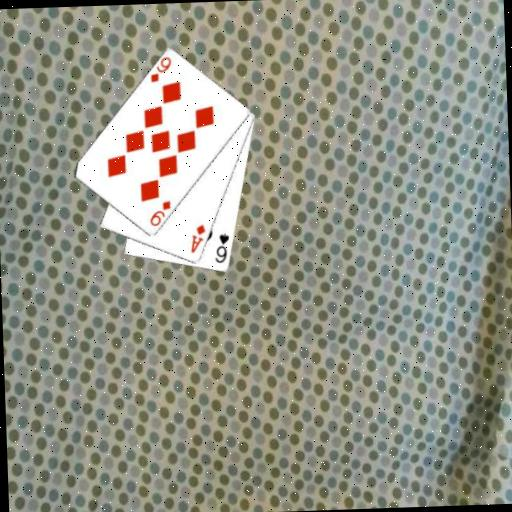6S: (211, 230, 231, 265)
9D: (146, 54, 174, 85), (146, 197, 173, 228)
AD: (187, 221, 208, 254)
